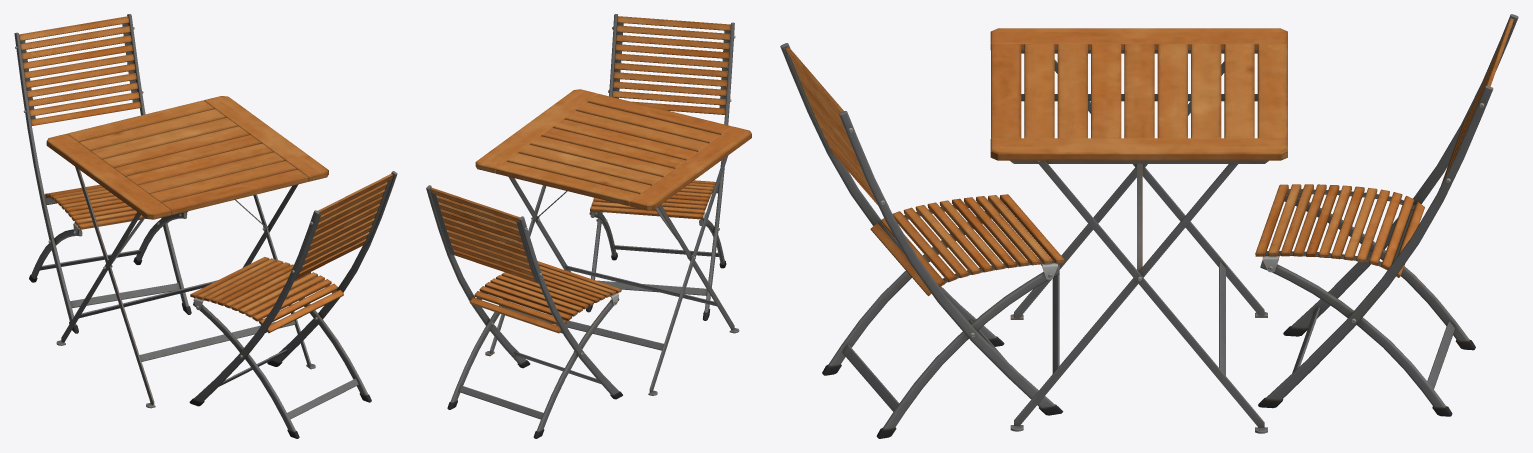
File: outdoor_table_chair_set_01.gltf
The picture shows the model from 3 angles, left to right: view 1: azimuth 30°, elevation 25°; view 2: azimuth 150°, elevation 25°; view 3: azimuth 270°, elevation 25°; orthographic projection. The views are drawn at different scales.
Visible parts, largest first — view 1: outdoor_table_chair_set_01_table, outdoor_table_chair_set_01_chair_02, outdoor_table_chair_set_01_chair_01; view 2: outdoor_table_chair_set_01_table, outdoor_table_chair_set_01_chair_02, outdoor_table_chair_set_01_chair_01; view 3: outdoor_table_chair_set_01_table, outdoor_table_chair_set_01_chair_01, outdoor_table_chair_set_01_chair_02.
Part boxes in pixels (x1=…): outdoor_table_chair_set_01_table: x1=46, y1=96, x2=328, y2=408; outdoor_table_chair_set_01_chair_02: x1=14, y1=14, x2=191, y2=333; outdoor_table_chair_set_01_chair_01: x1=189, y1=171, x2=397, y2=438; outdoor_table_chair_set_01_table: x1=475, y1=89, x2=751, y2=395; outdoor_table_chair_set_01_chair_02: x1=426, y1=185, x2=622, y2=438; outdoor_table_chair_set_01_chair_01: x1=586, y1=14, x2=735, y2=320; outdoor_table_chair_set_01_table: x1=990, y1=28, x2=1287, y2=433; outdoor_table_chair_set_01_chair_01: x1=780, y1=43, x2=1064, y2=438; outdoor_table_chair_set_01_chair_02: x1=1255, y1=14, x2=1518, y2=416.
Bounding box in the file's own units: 0.7417 × 0.8586 × 1.72.
Materials: 2 (2 with a texture image).
